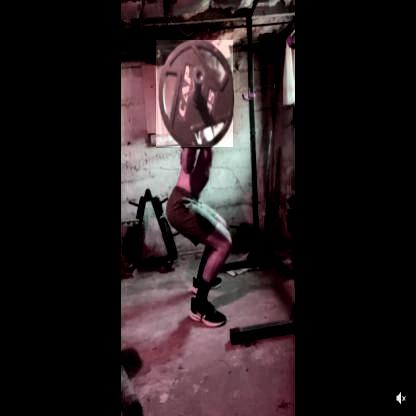barbell: (157, 41, 235, 150)
